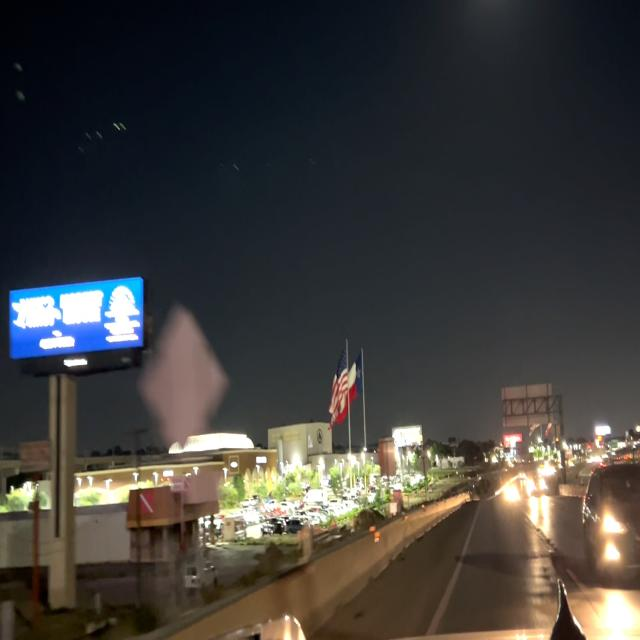back-of-sign: (499, 382, 554, 430), (376, 436, 399, 482)
